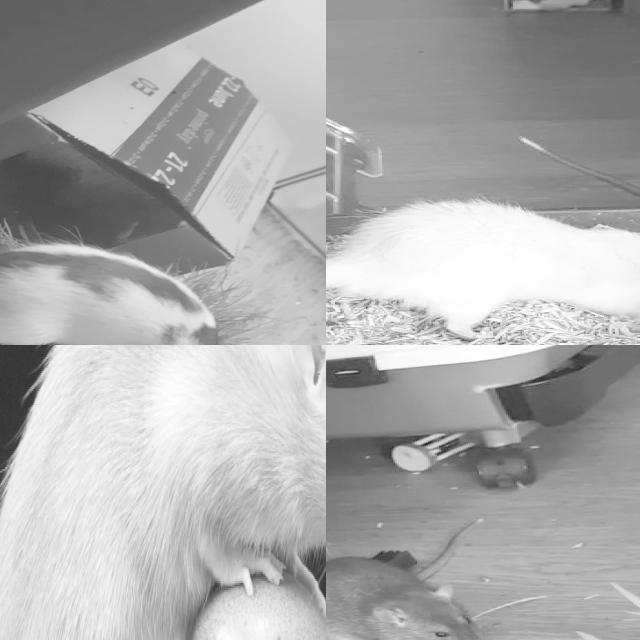rat: (0, 345, 326, 640), (339, 198, 640, 345), (0, 243, 226, 345), (326, 555, 505, 640)
